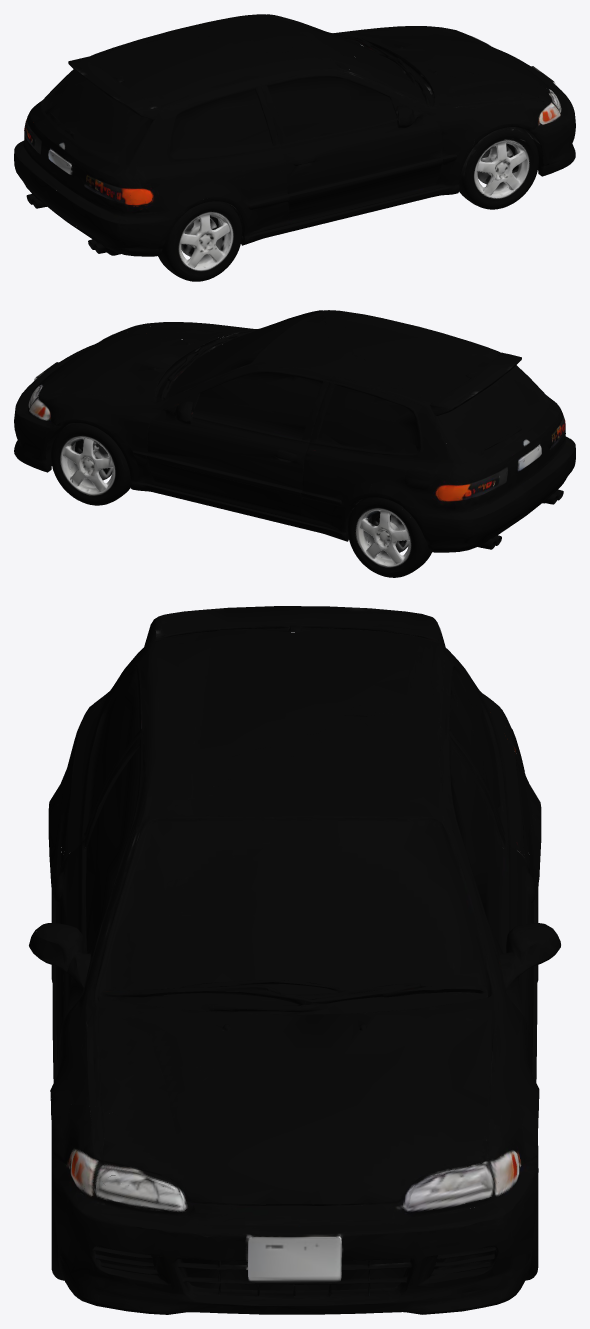
Rendered from civka.glb.
The picture shows the model from 3 angles, top to bottom: view 1: azimuth 30°, elevation 25°; view 2: azimuth 150°, elevation 25°; view 3: azimuth 270°, elevation 25°; orthographic projection. The views are drawn at different scales.
Parts seen in each view (by area): view 1: Body, Wheel_FR, Wheel_RR; view 2: Body, Wheel_RL, Wheel_FL; view 3: Body.
Boxes of the visible parts, x1,y1,x2,y2 form: Body: [14, 14, 575, 256]; Wheel_FR: [459, 123, 542, 209]; Wheel_RR: [158, 197, 248, 281]; Body: [14, 310, 575, 552]; Wheel_RL: [342, 493, 431, 577]; Wheel_FL: [47, 419, 130, 505]; Body: [29, 606, 560, 1314].
Bounding box in the file's own units: 1 × 0.3309 × 0.4695.
1 material, 1 textured.
